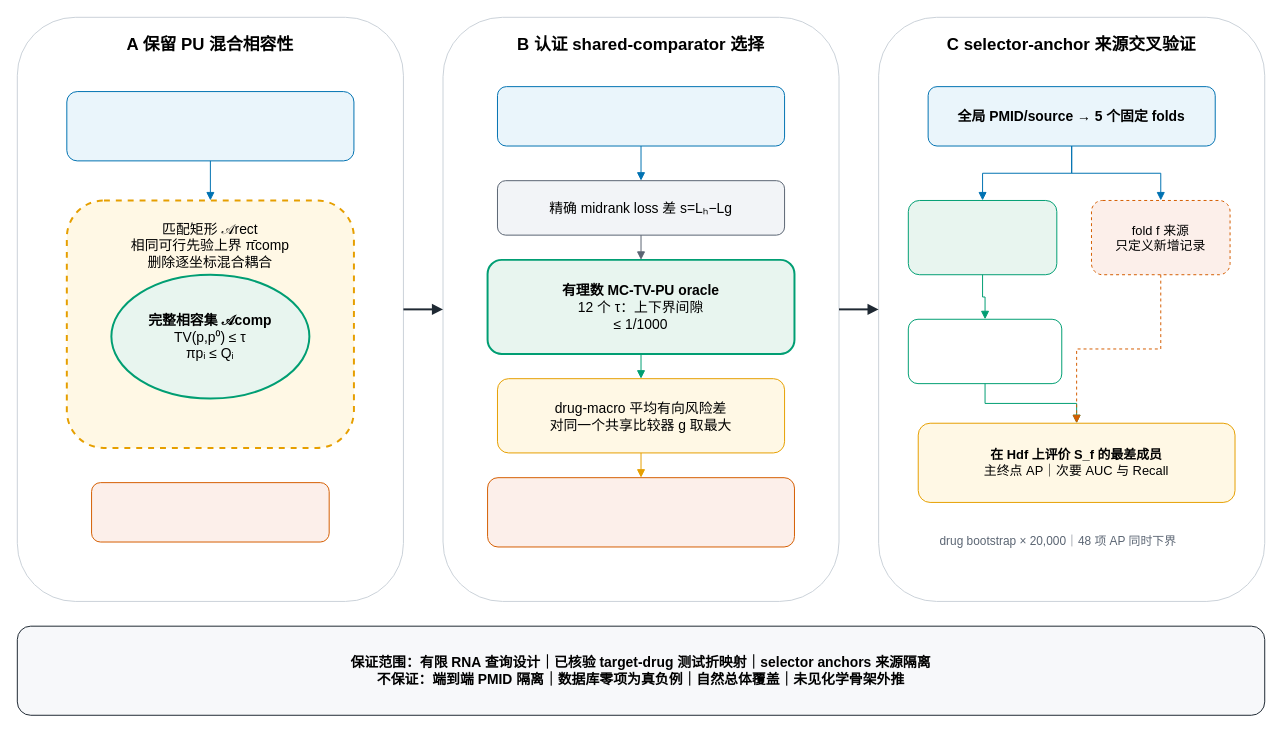
This 1282x733 diagram has some shape labels left out. The shapes that lost their labels are listed below. From the top down, each one's centre as x and y in pixels, then its label:
(x=210, y=126): 固定查询设计 Q 来源中心 p⁰ 未知先验 π 敏感性半径 τ
(x=640, y=116): 15 个冻结排序器｜已核验 scaffold 测试折映射
(x=982, y=237): fold f 之外来源 构造所有药物 anchors
(x=984, y=351): 独立选择 S_f 不得跨 folds 汇总
(x=210, y=512): 集合包含逐方向收紧风险界 但可能改变最终选择动作
(x=640, y=512): 集合值输出：possibly optimal 或 certifiably unique
